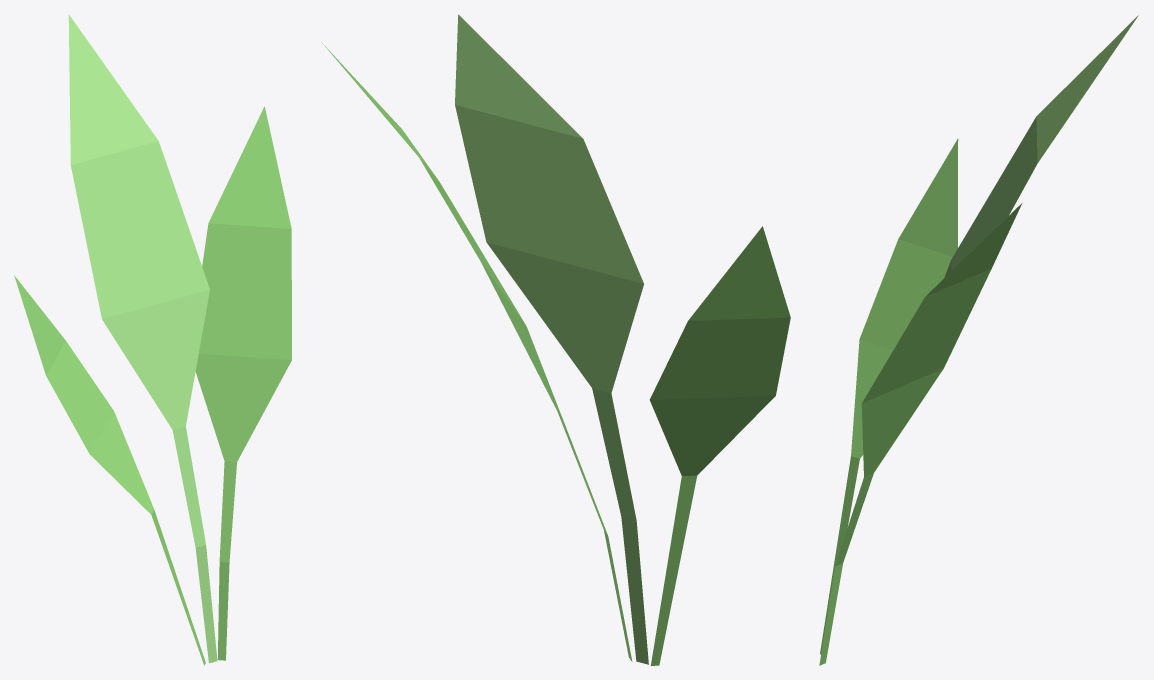
The model's file is Plant_g_OneS_03.fbx.
The picture shows the model from 3 angles, left to right: view 1: azimuth 30°, elevation 25°; view 2: azimuth 150°, elevation 25°; view 3: azimuth 270°, elevation 25°; orthographic projection. The views are drawn at different scales.
Visible parts, largest first — view 1: Plant_g_OneS_03; view 2: Plant_g_OneS_03; view 3: Plant_g_OneS_03.
Part boxes in pixels (x1,y1,x2,y2): Plant_g_OneS_03: (14,14,291,665); Plant_g_OneS_03: (321,14,790,665); Plant_g_OneS_03: (819,15,1138,665).
Bounding box in the file's own units: 28.65 × 54.18 × 24.54.
